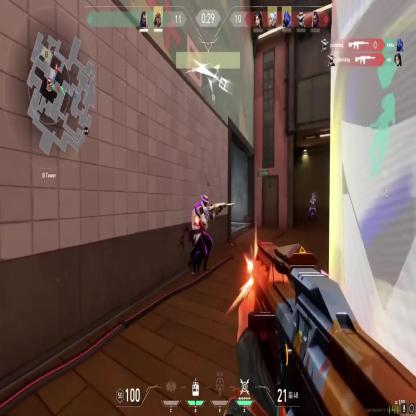enemy: (190, 194, 213, 276), (308, 192, 316, 219)
enemy_head: (201, 194, 209, 209), (311, 192, 314, 200)
